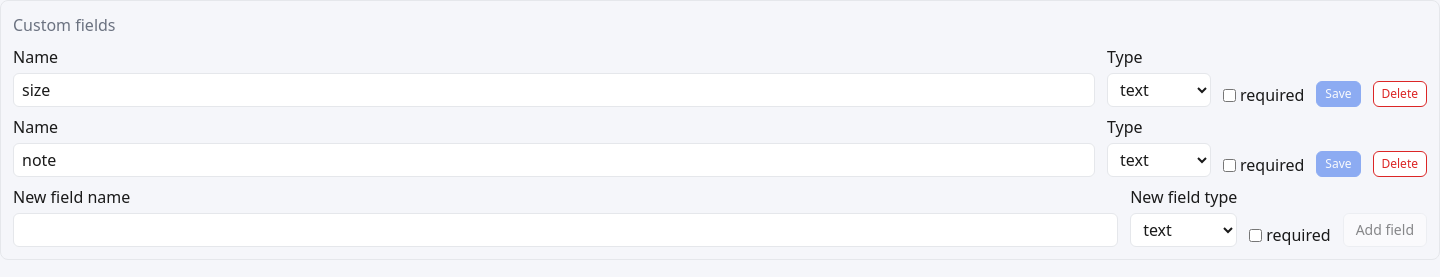
type fields editor › clears the add-row input once the write succeeds
Type "colour" into the field labelled "New field name" at (566, 230), box [13,213,1118,247]
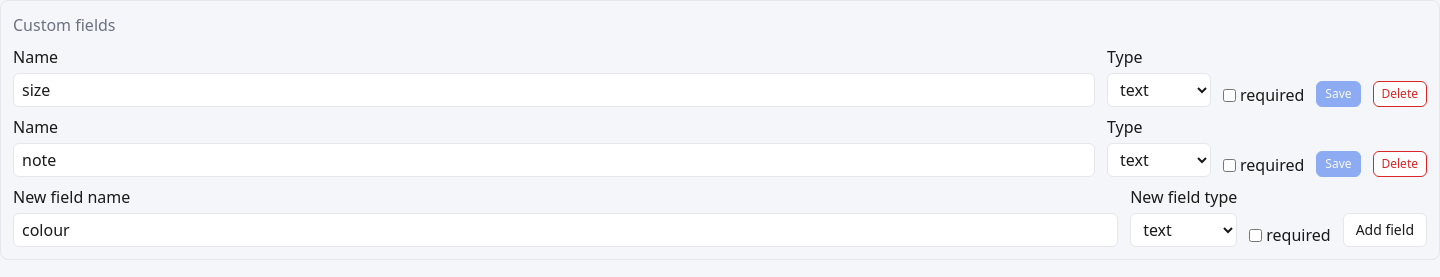
Click the checkbox named "New field required" at (1256, 235), box [1249,228,1262,242]
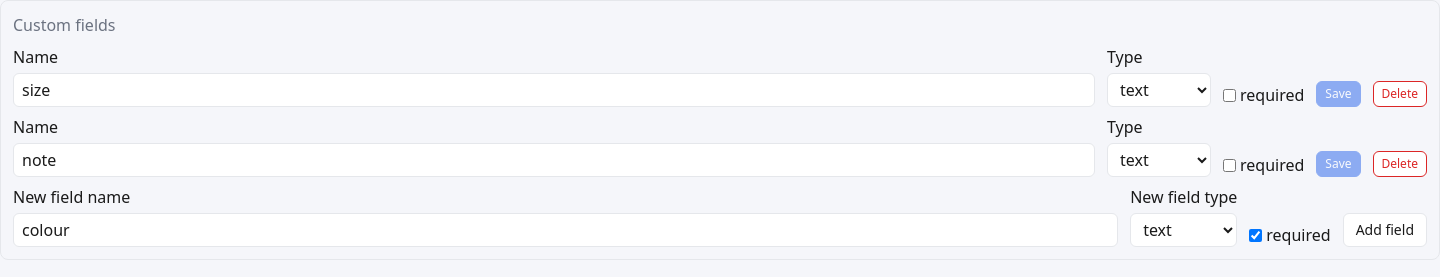
Click the button "Add field" at (1385, 230), box [1343,213,1427,247]
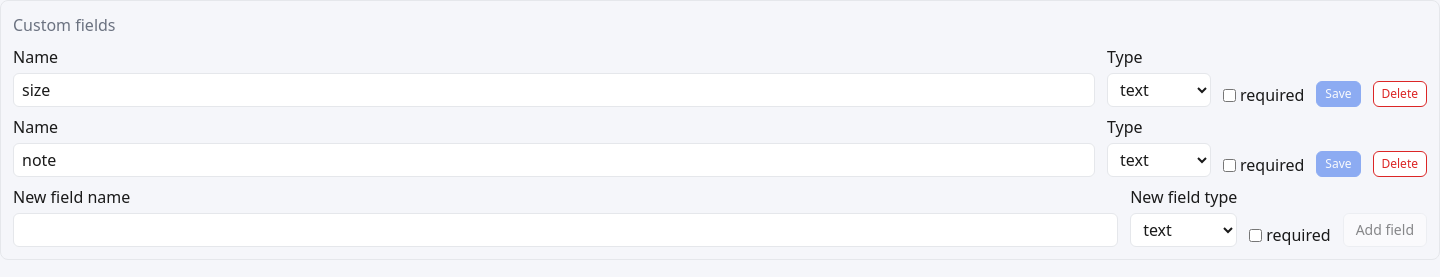
Result: the checkbox named "New field required" is not checked at [1249,228,1262,242]
Result: the field labelled "New field name" is empty at [13,213,1118,247]
